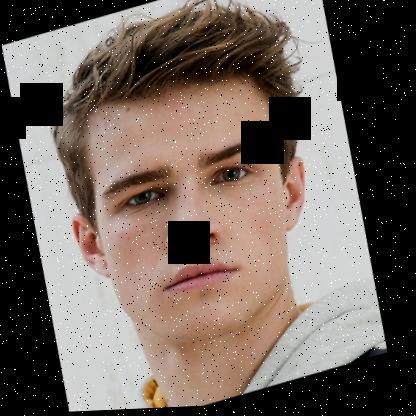Male: (36, 46, 345, 367)
